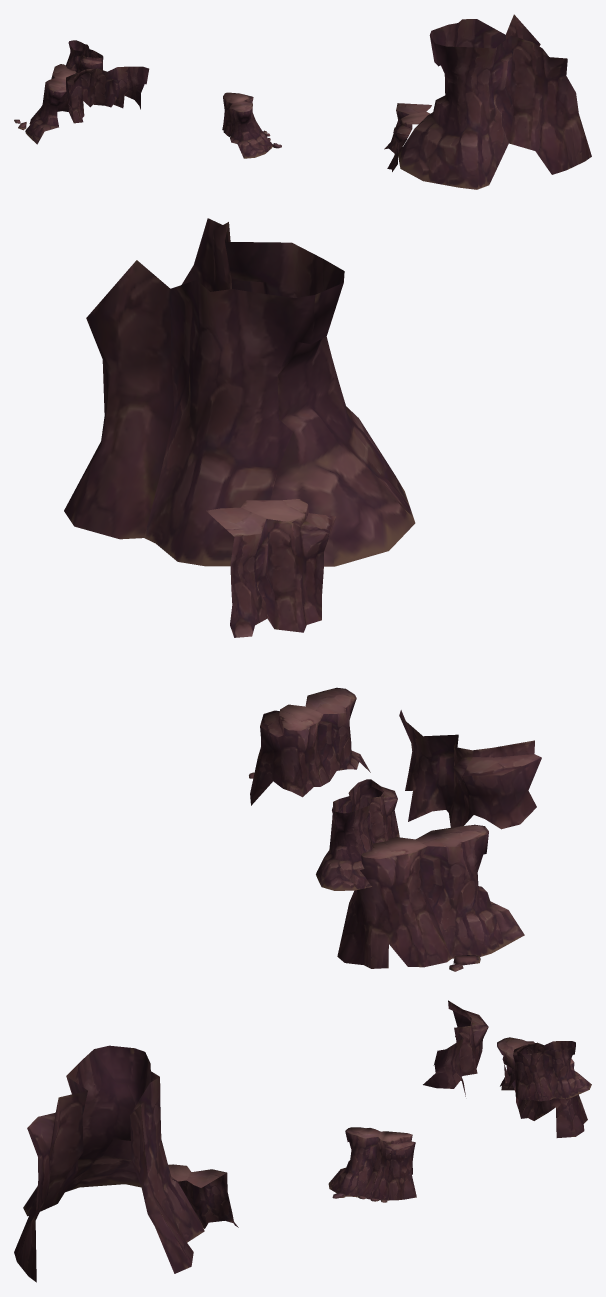
Rendered from area11_shiqiang_03.FBX.
3 views of the same model, one above another, from view 1: azimuth 30°, elevation 25°; view 2: azimuth 150°, elevation 25°; view 3: azimuth 270°, elevation 25° (orthographic). The views are drawn at different scales.
Visible parts, largest first — view 1: area11_shiqiang_03; view 2: area11_shiqiang_03; view 3: area11_shiqiang_03.
Boxes of the visible parts, x1=… form: area11_shiqiang_03: x1=14, y1=14, x2=591, y2=189; area11_shiqiang_03: x1=64, y1=218, x2=541, y2=971; area11_shiqiang_03: x1=14, y1=1000, x2=591, y2=1282.
Bounding box in the file's own units: 5496 × 2255 × 5792.
